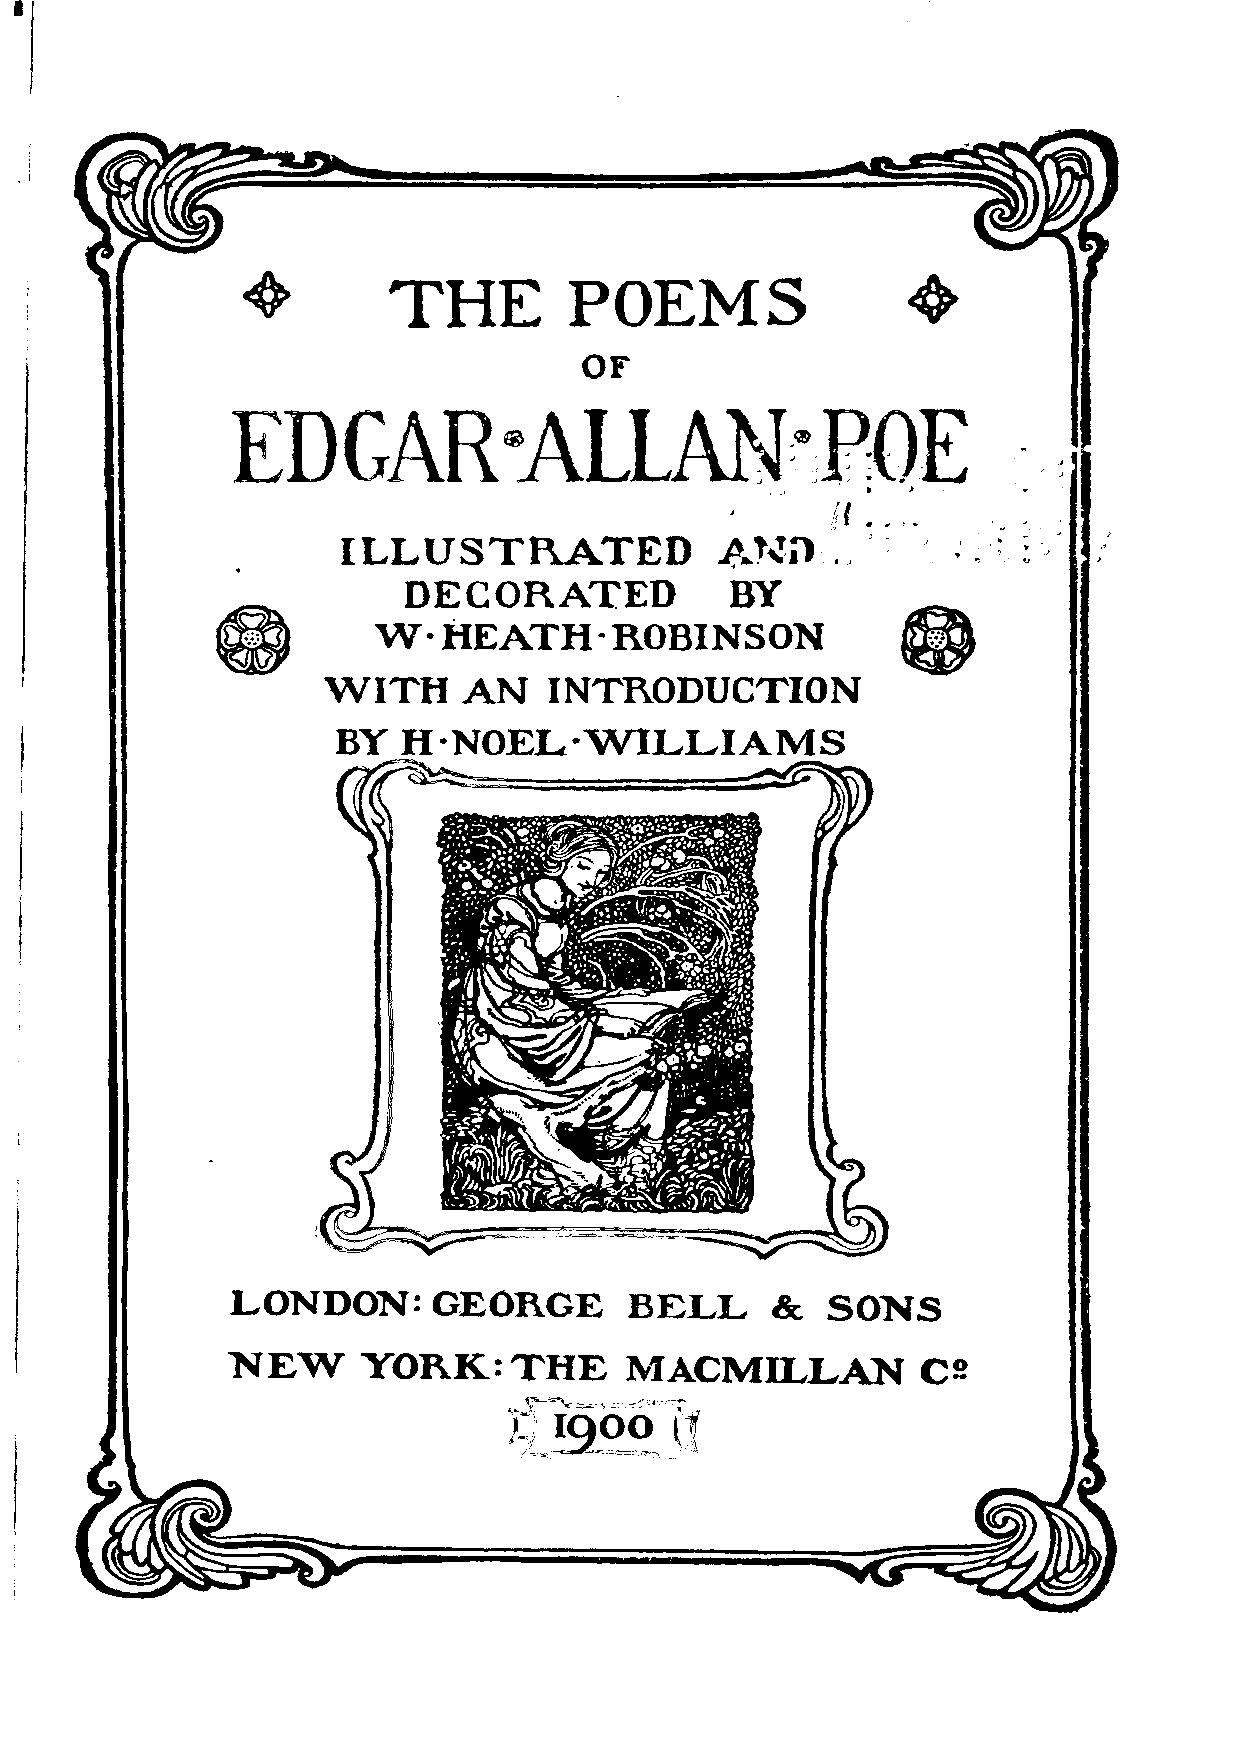author: (331, 722, 845, 758)
title: (225, 268, 972, 488)
